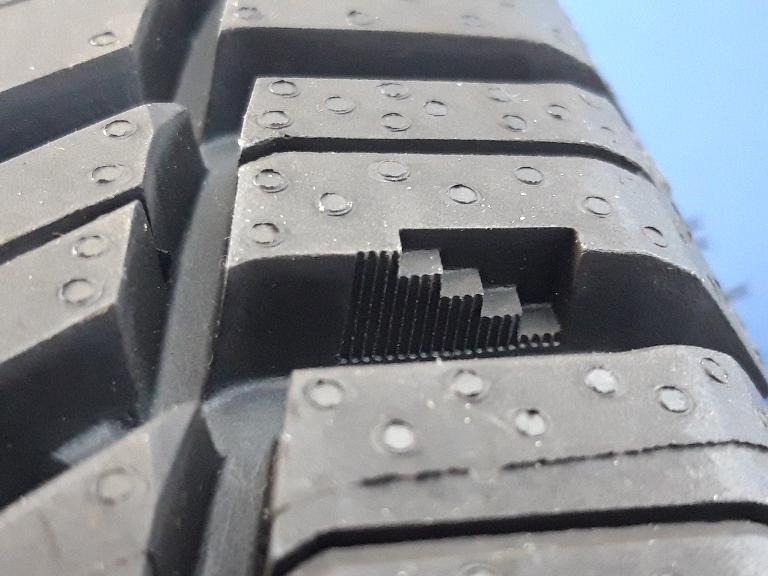temoin:100: (325, 219, 596, 374)
